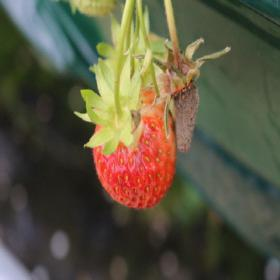Gray Mold: (162, 48, 200, 152)
